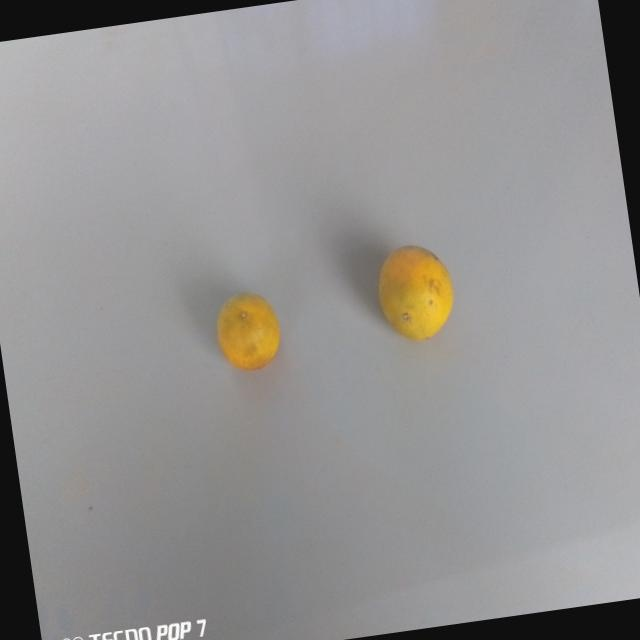agrume: (368, 230, 464, 356), (194, 270, 290, 391)
